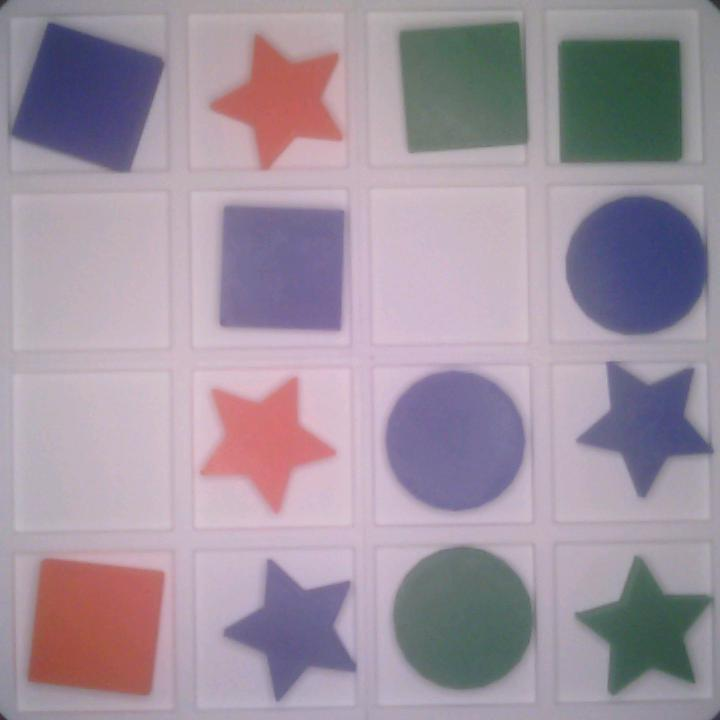Blue circle: (563, 194, 706, 337), (383, 373, 523, 512)
Blue square: (7, 23, 165, 167), (217, 200, 347, 332)
Blue star: (222, 557, 353, 700), (579, 360, 711, 494)
Green circle: (390, 543, 530, 685)
Green square: (394, 18, 527, 155), (555, 34, 686, 167)
Green star: (574, 554, 714, 698)
Orange square: (22, 556, 166, 695)
Orange star: (210, 30, 343, 172), (194, 376, 330, 512)
